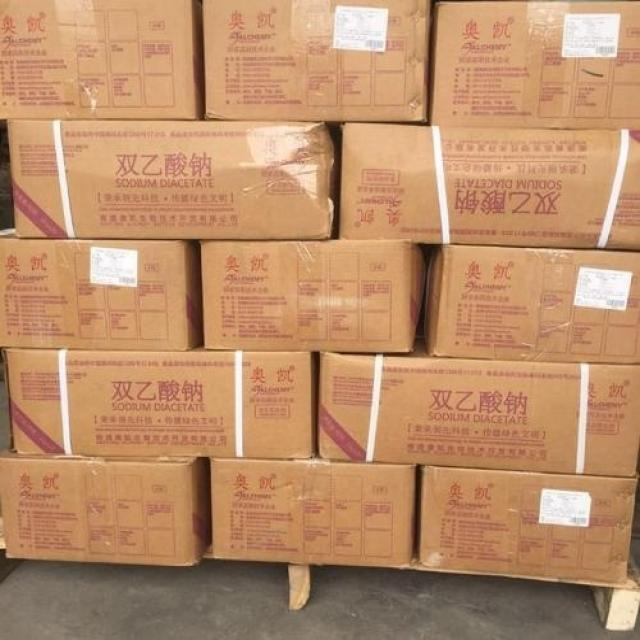Carton: (10, 121, 325, 239), (339, 123, 639, 245), (314, 357, 636, 470), (8, 353, 307, 452), (204, 0, 431, 121), (433, 1, 639, 126), (419, 465, 637, 580), (431, 245, 637, 362), (0, 0, 192, 117), (201, 243, 411, 345), (210, 458, 413, 563), (0, 240, 183, 351), (4, 458, 200, 561)
